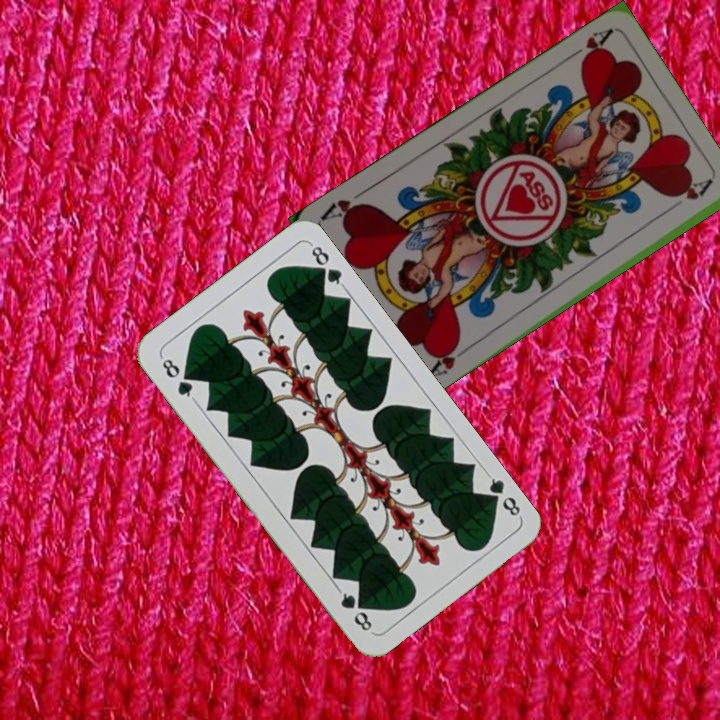G8: (480, 469, 525, 521), (157, 353, 198, 403)
HA: (422, 336, 473, 383), (560, 25, 614, 68)
